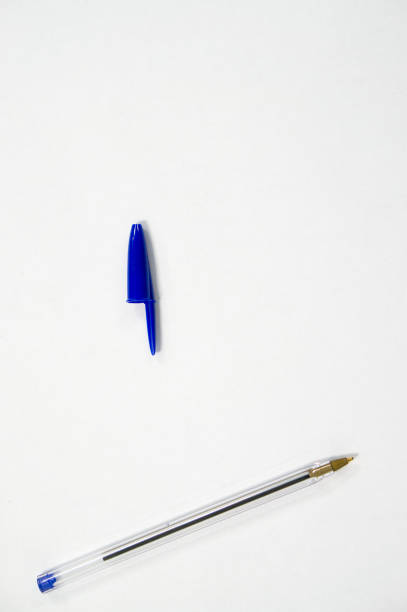pen: (32, 220, 364, 593)
